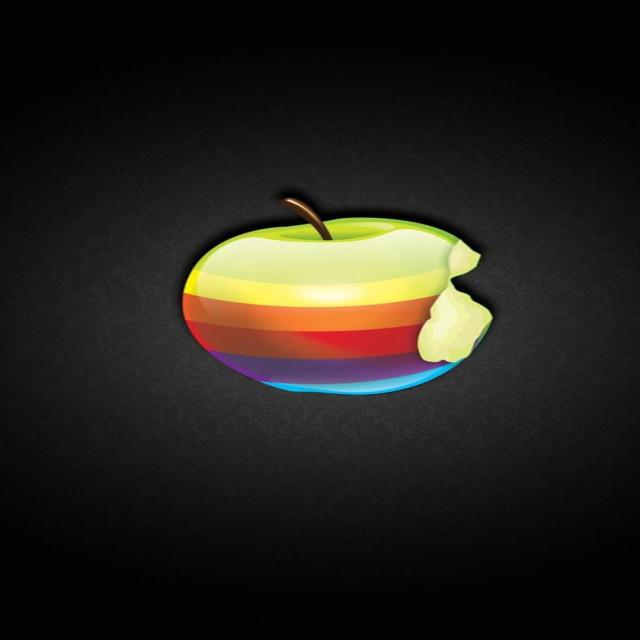apple: (181, 204, 492, 403)
